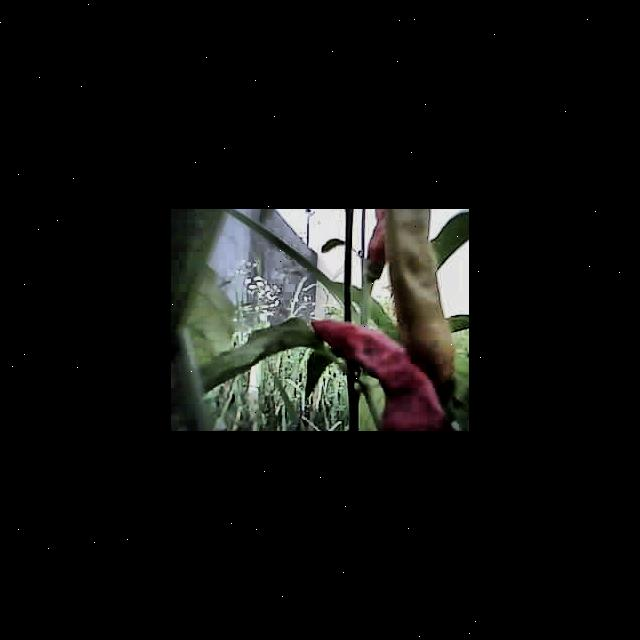Cabai: (311, 317, 413, 431), (366, 209, 386, 267)
